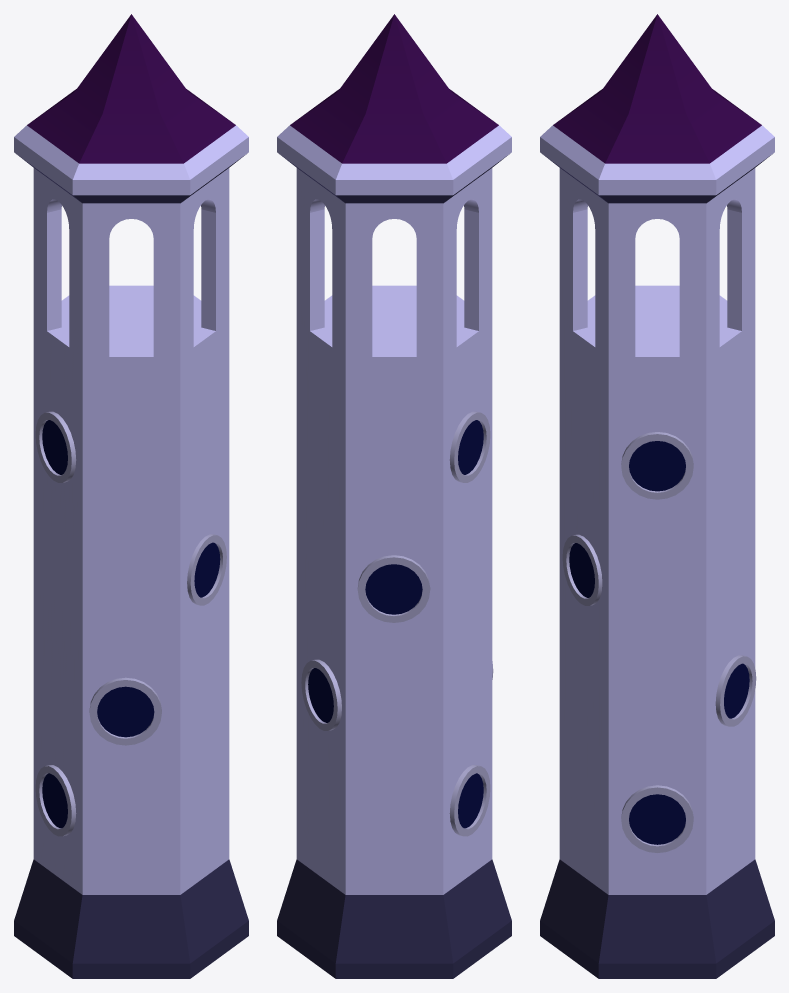
File: Arcane.fbx
The picture shows the model from 3 angles, left to right: view 1: azimuth 30°, elevation 25°; view 2: azimuth 150°, elevation 25°; view 3: azimuth 270°, elevation 25°; orthographic projection.
Parts seen in each view (by area): view 1: hexagon (×3), hexagon_base, hexagon_roofLarge%, hexagon_arches, window_round (×4); view 2: hexagon (×3), hexagon_base, hexagon_roofLarge%, hexagon_arches, window_round (×4); view 3: hexagon (×3), hexagon_base, hexagon_roofLarge%, hexagon_arches, window_round (×4).
Boxes of the visible parts, bbox=[...] form: hexagon (×3): bbox=[33, 285, 229, 817]; hexagon_base: bbox=[14, 782, 248, 978]; hexagon_roofLarge%: bbox=[14, 14, 248, 203]; hexagon_arches: bbox=[33, 168, 229, 356]; window_round (×4): bbox=[35, 411, 226, 836]; hexagon (×3): bbox=[296, 285, 492, 817]; hexagon_base: bbox=[277, 782, 511, 978]; hexagon_roofLarge%: bbox=[277, 14, 511, 203]; hexagon_arches: bbox=[296, 168, 492, 356]; window_round (×4): bbox=[301, 411, 490, 836]; hexagon (×3): bbox=[559, 285, 755, 817]; hexagon_base: bbox=[540, 782, 774, 978]; hexagon_roofLarge%: bbox=[540, 14, 774, 203]; hexagon_arches: bbox=[559, 168, 755, 356]; window_round (×4): bbox=[562, 432, 756, 852].
Bounding box in the file's own units: 12 × 60 × 13.86.
